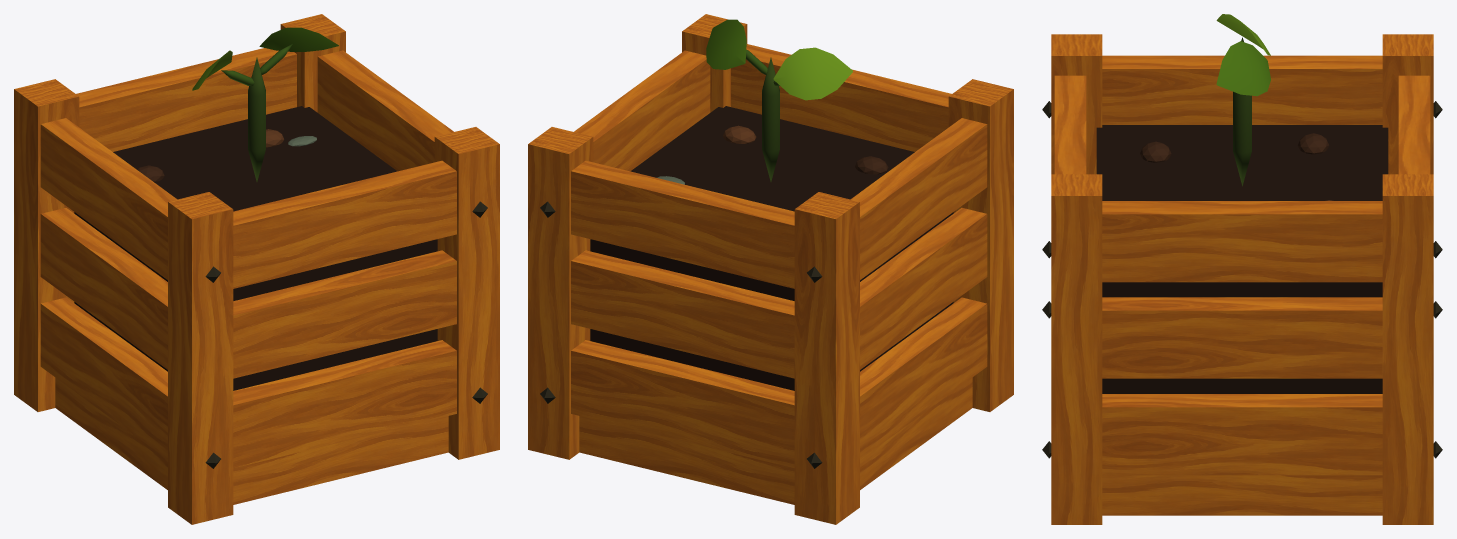
The model's file is nursery-growing.obj.
The picture shows the model from 3 angles, left to right: view 1: azimuth 30°, elevation 25°; view 2: azimuth 150°, elevation 25°; view 3: azimuth 270°, elevation 25°; orthographic projection. The views are drawn at different scales.
Parts seen in each view (by area): view 1: nursery-growing; view 2: nursery-growing; view 3: nursery-growing.
Part boxes in pixels (<box>): nursery-growing: <box>14,14,499,524</box>; nursery-growing: <box>528,14,1013,524</box>; nursery-growing: <box>1042,14,1442,524</box>.
Size of the model in its own units: 0.485 by 0.5856 by 0.508.
Materials: 2 (2 with a texture image).
